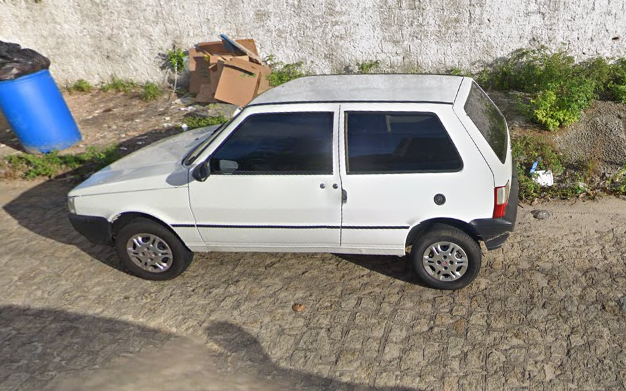car: (67, 72, 524, 291)
